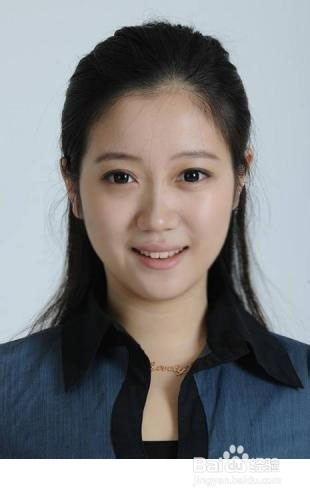unmask: (82, 103, 228, 285)
